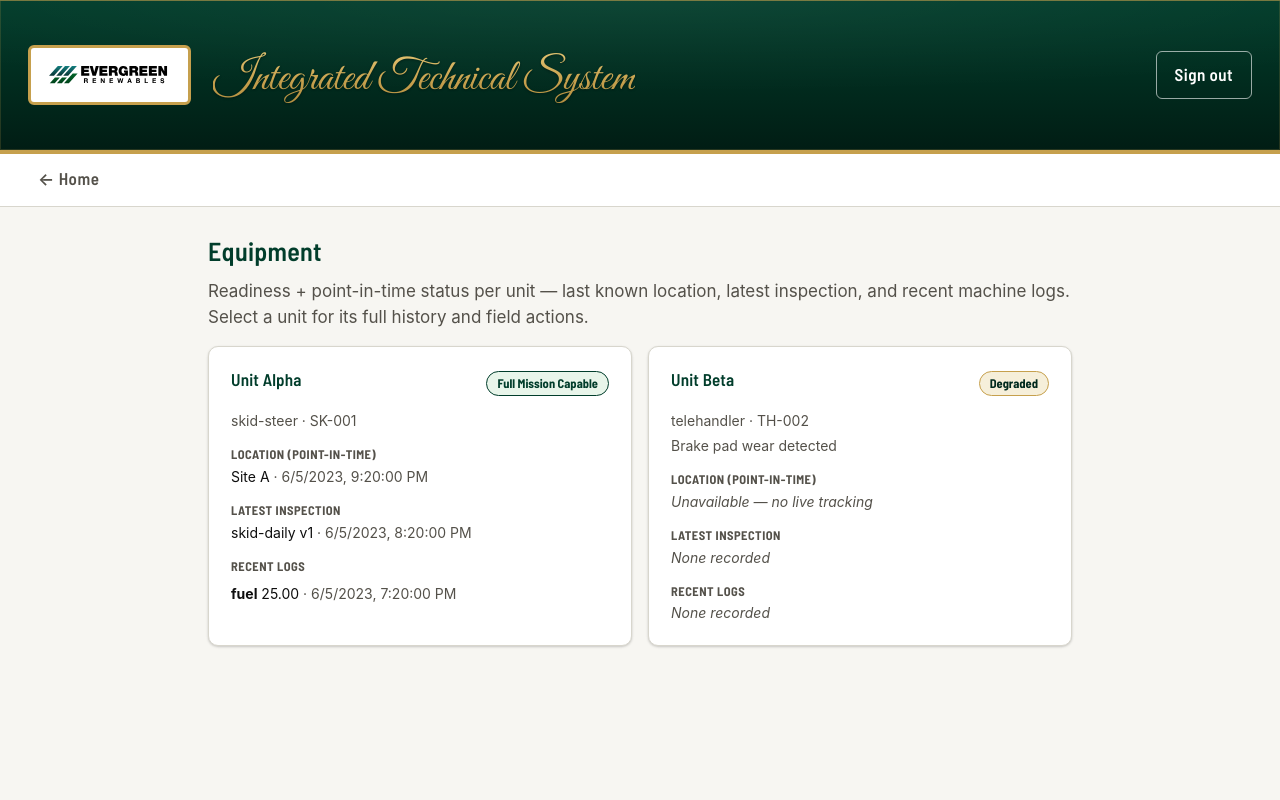
Scenario: FieldOpsEquipment — detail view › back button returns to the dashboard
Click the button with class "dash-card--click" that starts with "Unit Alpha": (266,379) [208, 346, 632, 646]
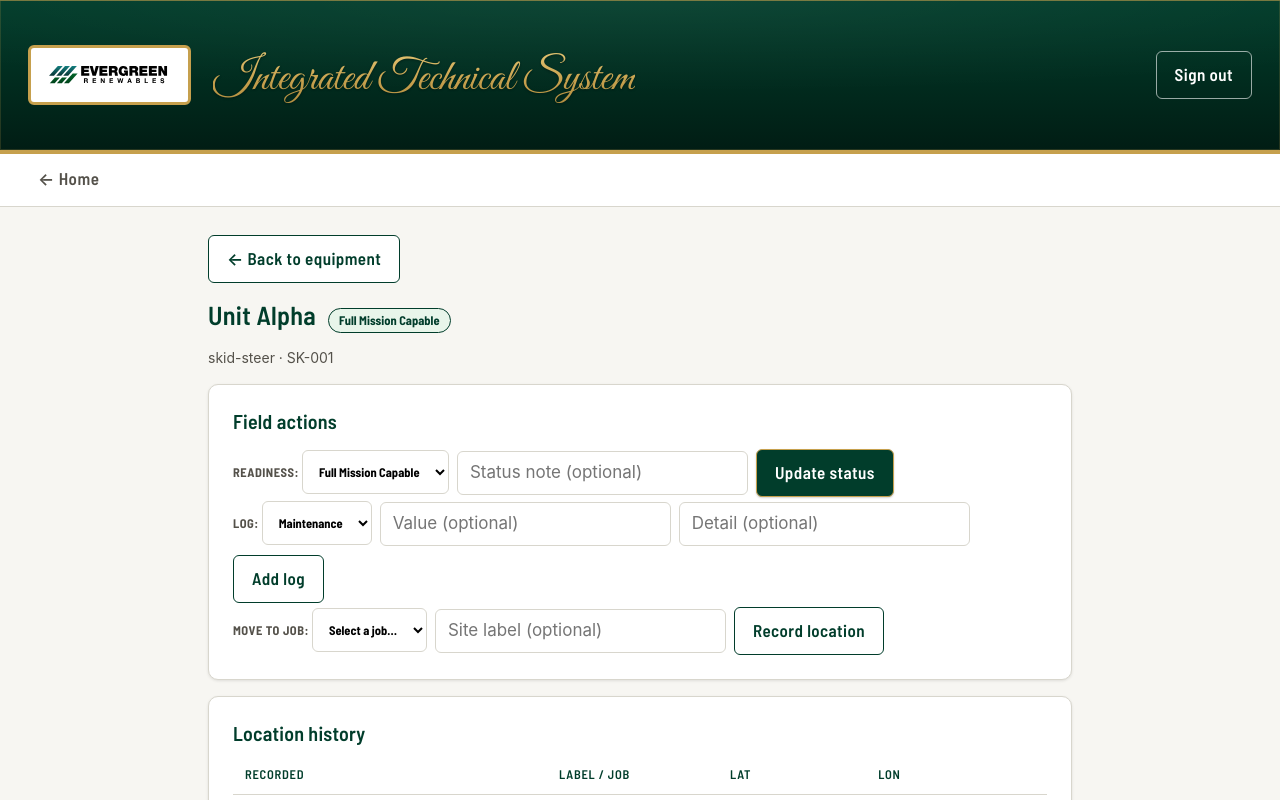
Now no buttons with class "dash-card--click" are shown
Click the button "← Back to equipment": (304,259) [208, 235, 400, 283]
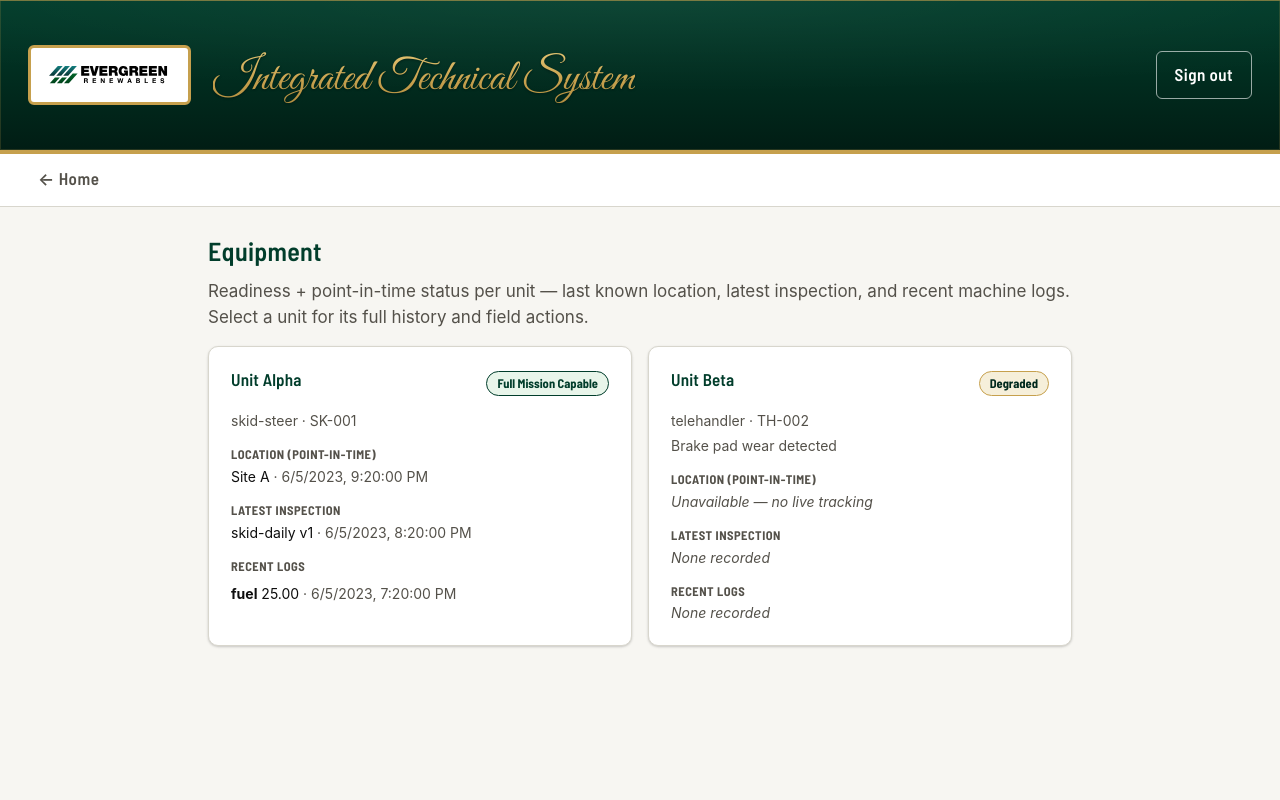
Now the number of buttons with class "dash-card--click" is 2, box [208, 346, 632, 646]; [648, 346, 1072, 646]
